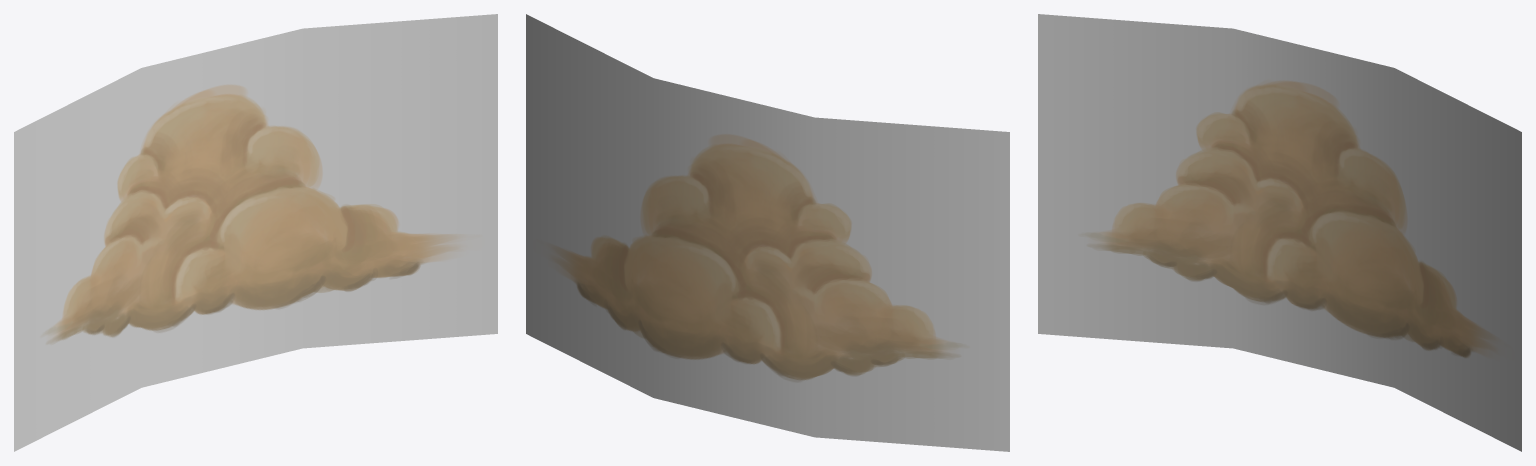
Rendered from cloud.FBX.
The picture shows the model from 3 angles, left to right: view 1: azimuth 30°, elevation 25°; view 2: azimuth 150°, elevation 25°; view 3: azimuth 330°, elevation 25°; orthographic projection.
Visible parts, largest first — view 1: Plane001; view 2: Plane001; view 3: Plane001.
Boxes of the visible parts, x1,y1,x2,y2 form: Plane001: [14, 14, 497, 451]; Plane001: [526, 14, 1009, 451]; Plane001: [1038, 14, 1521, 451].
Bounding box in the file's own units: 4640 × 2931 × 562.
